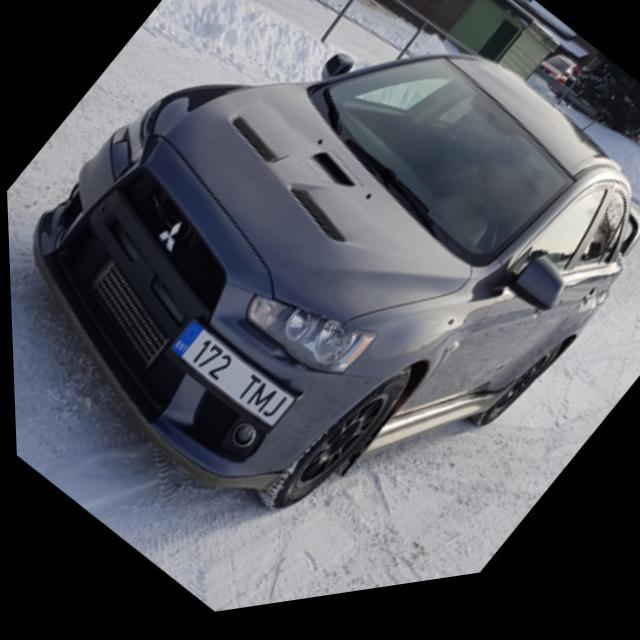license_plate: (168, 317, 288, 446)
